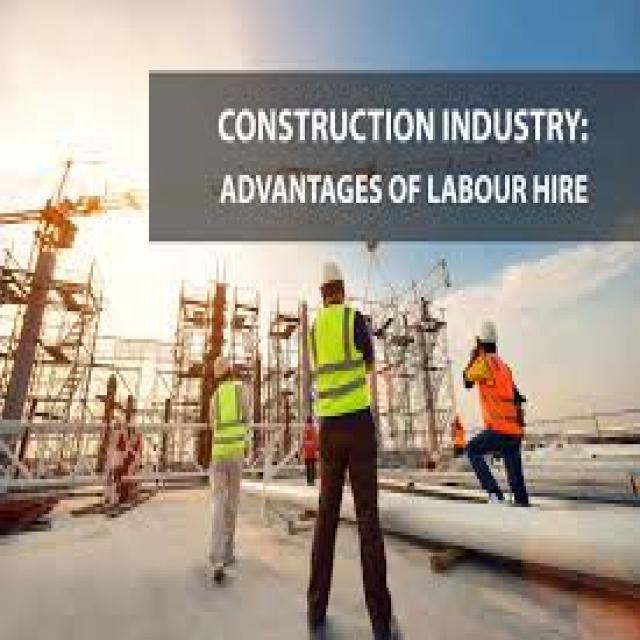Reflective-Jacket: (305, 301, 379, 430), (458, 353, 533, 458), (202, 378, 258, 476)
Safety-Helmet: (468, 308, 507, 360), (314, 252, 349, 294)
